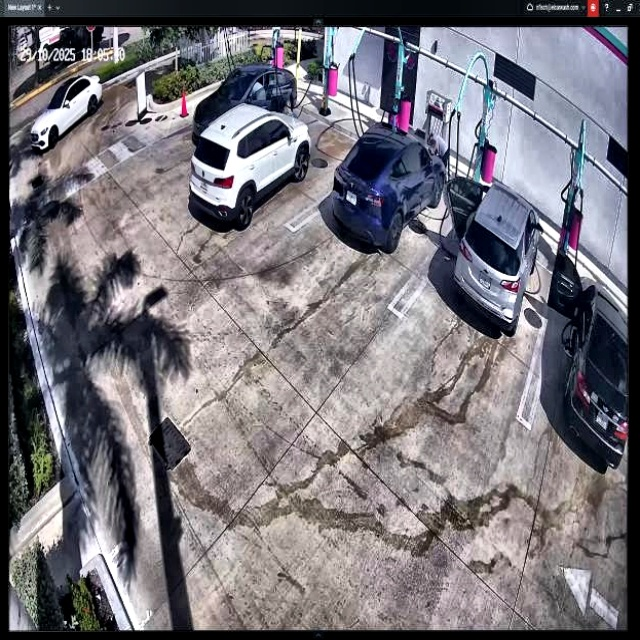Car: (447, 175, 540, 332), (330, 124, 442, 250), (195, 109, 310, 227), (193, 67, 298, 138)
